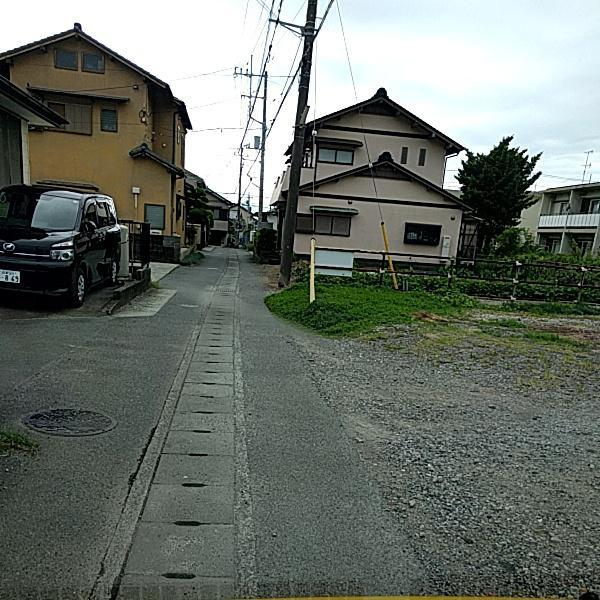D50: (24, 407, 117, 437)
